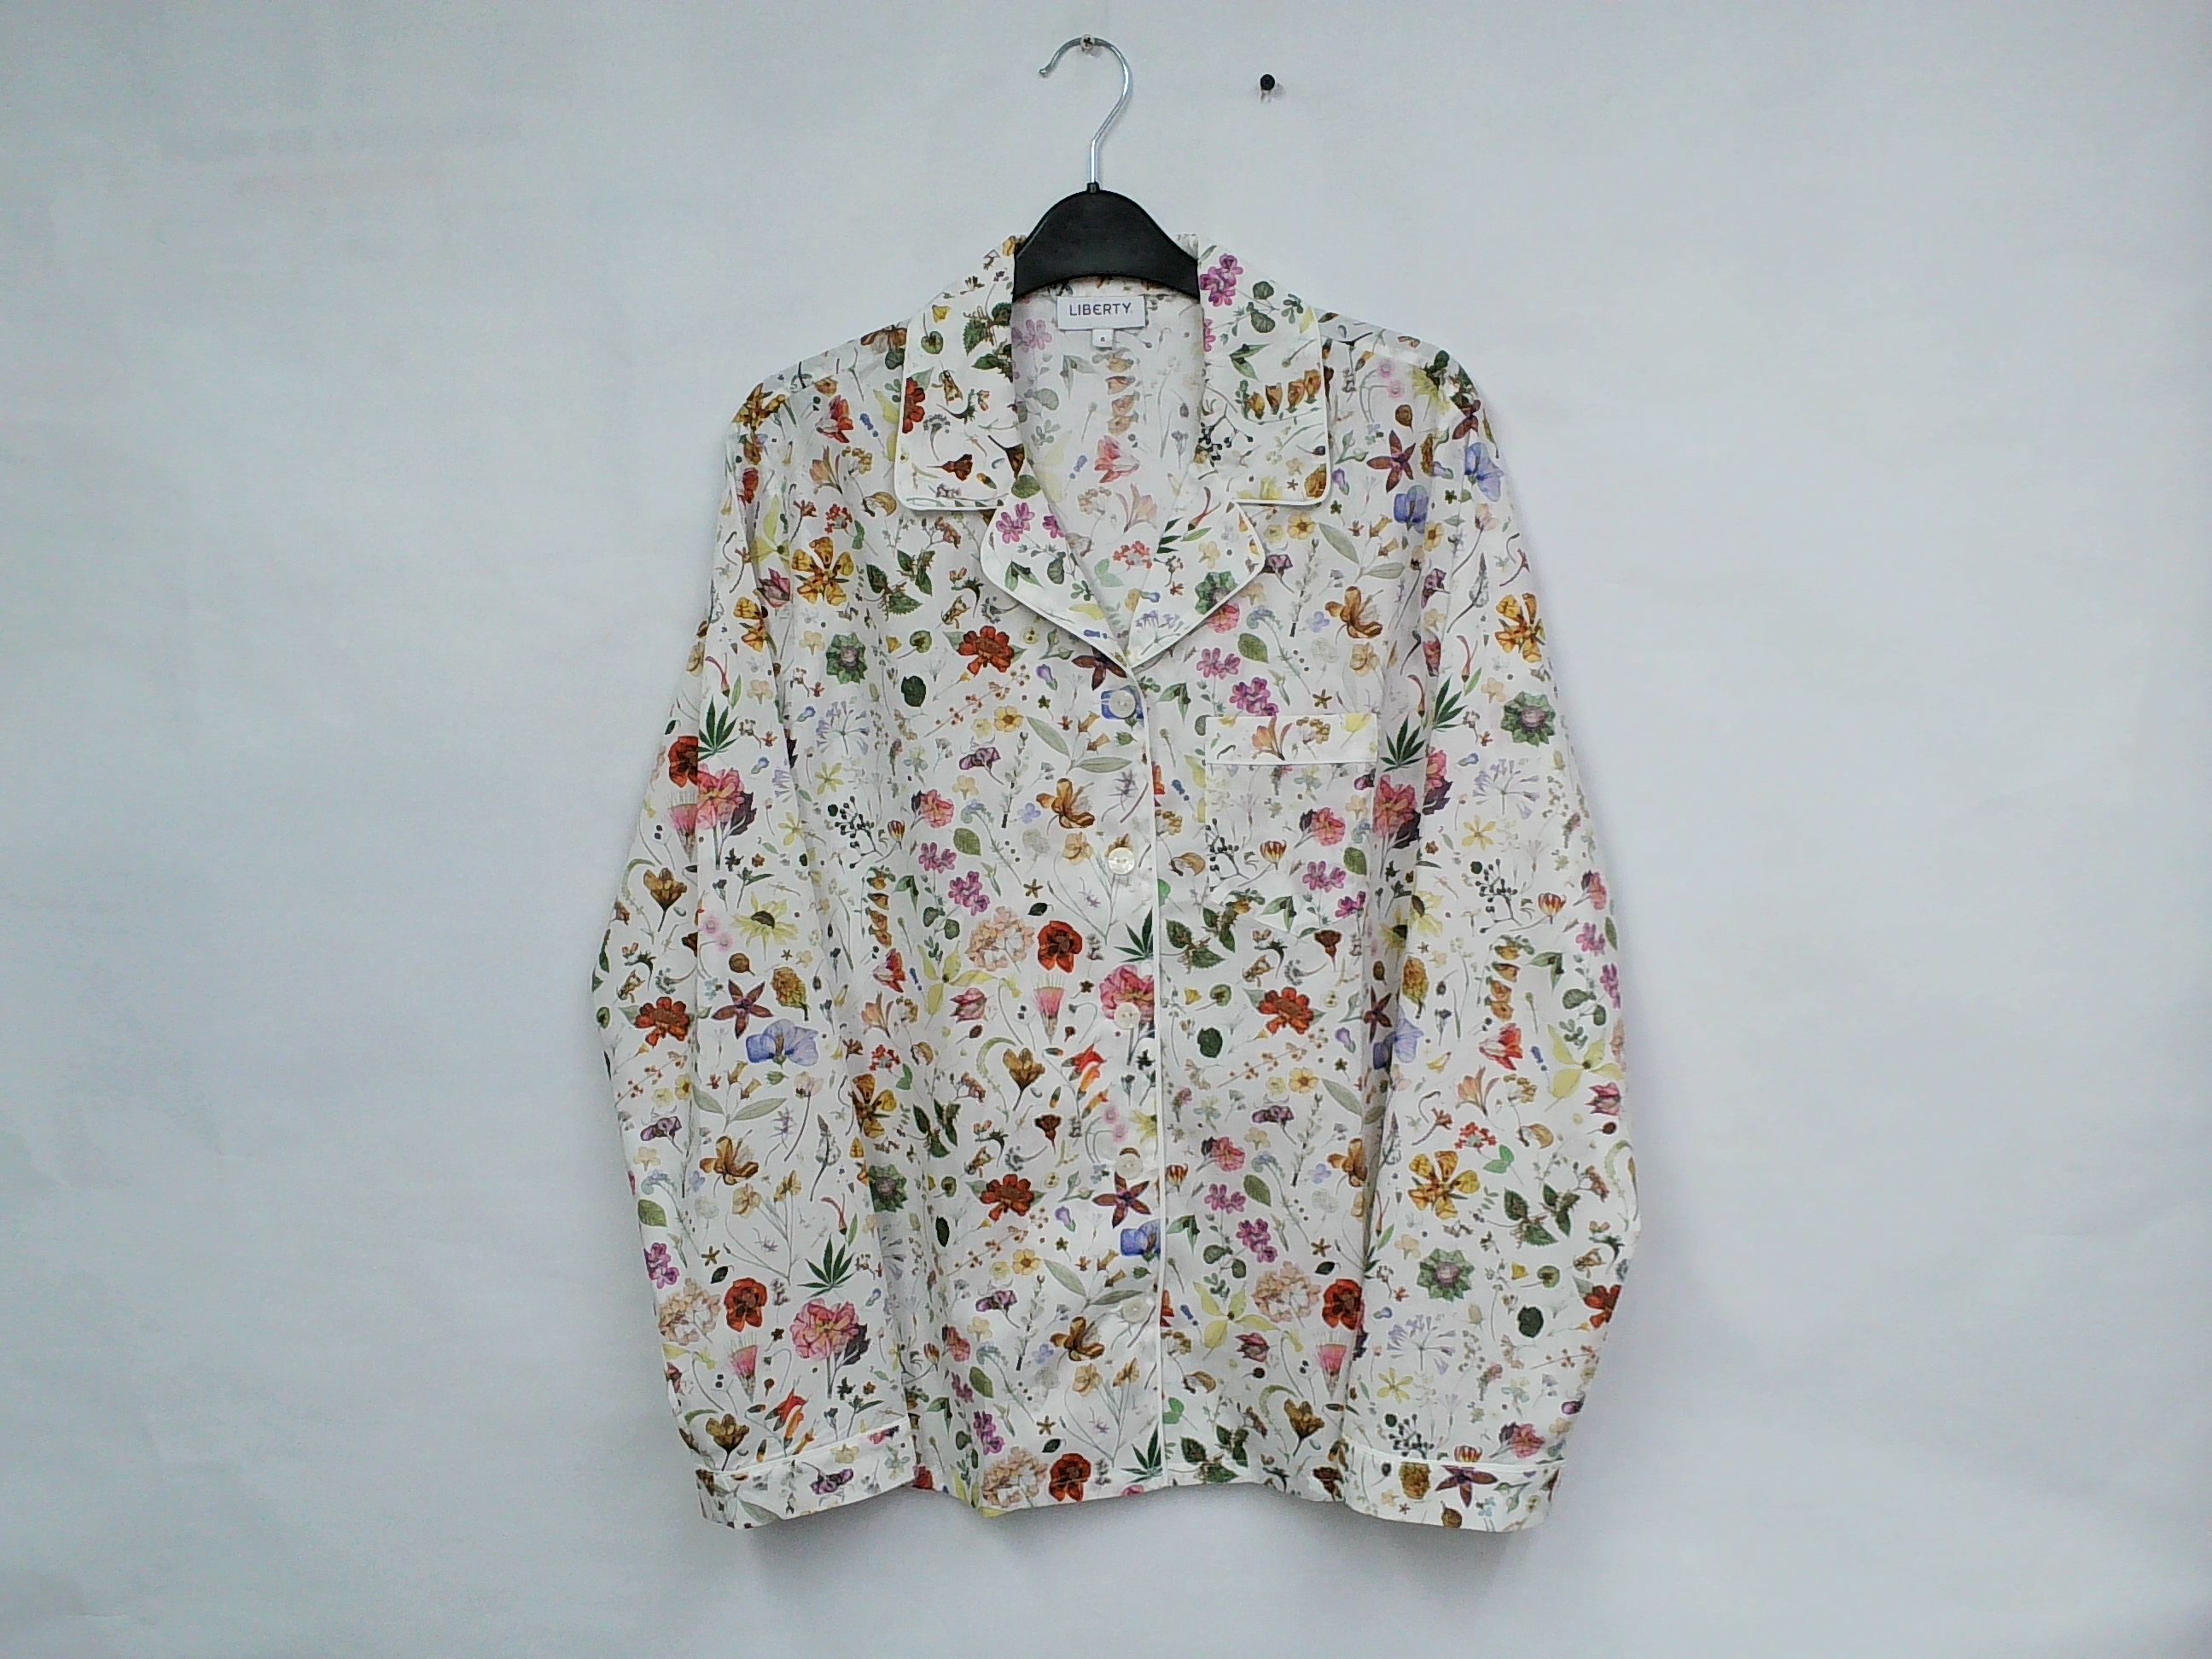seam: (685, 1448, 745, 1514)
